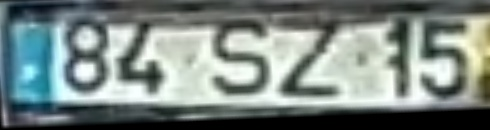1: (382, 16, 417, 102)
4: (112, 20, 171, 100)
5: (418, 18, 473, 104)
8: (59, 13, 115, 97)
S: (206, 14, 275, 101)
Z: (275, 16, 345, 100)
